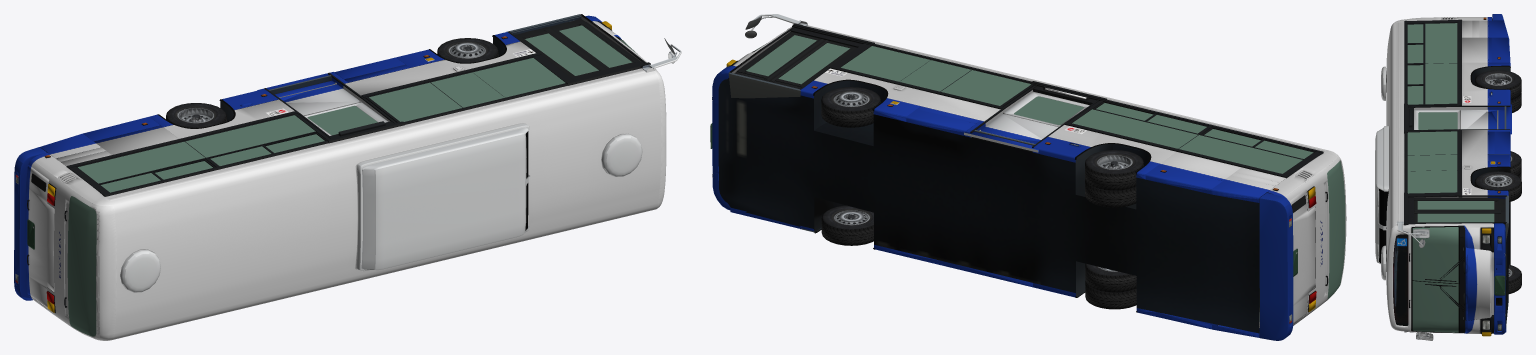
The model's file is Bus_withTexture_YForwardZUp.dae.
The picture shows the model from 3 angles, left to right: view 1: azimuth 30°, elevation 25°; view 2: azimuth 150°, elevation 25°; view 3: azimuth 270°, elevation 25°; orthographic projection. The views are drawn at different scales.
Parts seen in each view (by area): view 1: body, aircon, glass, sash, R_doorF, R_bumper, bent_B, bent_A, tire_RL, F_doorA, tire_FL, F_DglassB (+4 smaller); view 2: interior, body, glass, sash, R_bumper, tire_RL, tire_FL, tire_RR, R_doorF, tire_FR, doorstep, F_doorA (+5 smaller); view 3: body, glass, sash, aircon, ikisakiF, R_doorF, F_bumper, tire_RL, interior, tire_FL, Hgom, F_DglassA (+17 smaller).
Part boxes in pixels (<box>): body: <box>25,16,666,340</box>; aircon: <box>356,123,530,271</box>; glass: <box>67,39,637,336</box>; sash: <box>66,14,650,196</box>; R_doorF: <box>275,80,388,135</box>; R_bumper: <box>14,147,46,300</box>; bent_B: <box>120,249,160,292</box>; bent_A: <box>601,134,642,176</box>; tire_RL: <box>166,103,226,128</box>; F_doorA: <box>544,19,639,70</box>; tire_FL: <box>437,38,498,62</box>; F_DglassB: <box>525,33,598,75</box>; interior: <box>718,78,1271,333</box>; body: <box>730,25,1346,337</box>; glass: <box>754,45,1345,298</box>; sash: <box>729,23,1323,178</box>; R_bumper: <box>1259,193,1293,340</box>; tire_RL: <box>1085,150,1143,207</box>; tire_FL: <box>821,87,880,127</box>; tire_RR: <box>1085,263,1136,309</box>; R_doorF: <box>981,91,1089,143</box>; tire_FR: <box>821,205,873,245</box>; doorstep: <box>728,72,1034,152</box>; F_doorA: <box>734,31,828,81</box>; body: <box>1386,17,1511,333</box>; glass: <box>1407,23,1458,332</box>; sash: <box>1404,19,1510,332</box>; aircon: <box>1375,126,1388,264</box>; ikisakiF: <box>1393,234,1408,325</box>; R_doorF: <box>1414,109,1504,129</box>; F_bumper: <box>1494,223,1505,334</box>; tire_RL: <box>1475,70,1521,112</box>; interior: <box>1465,18,1510,328</box>; tire_FL: <box>1474,171,1521,201</box>; Hgom: <box>1411,65,1510,332</box>; F_DglassA: <box>1417,213,1494,222</box>.
Bounding box in the file's own units: 1075 × 274 × 296.
Materials: 44 (39 with a texture image).
